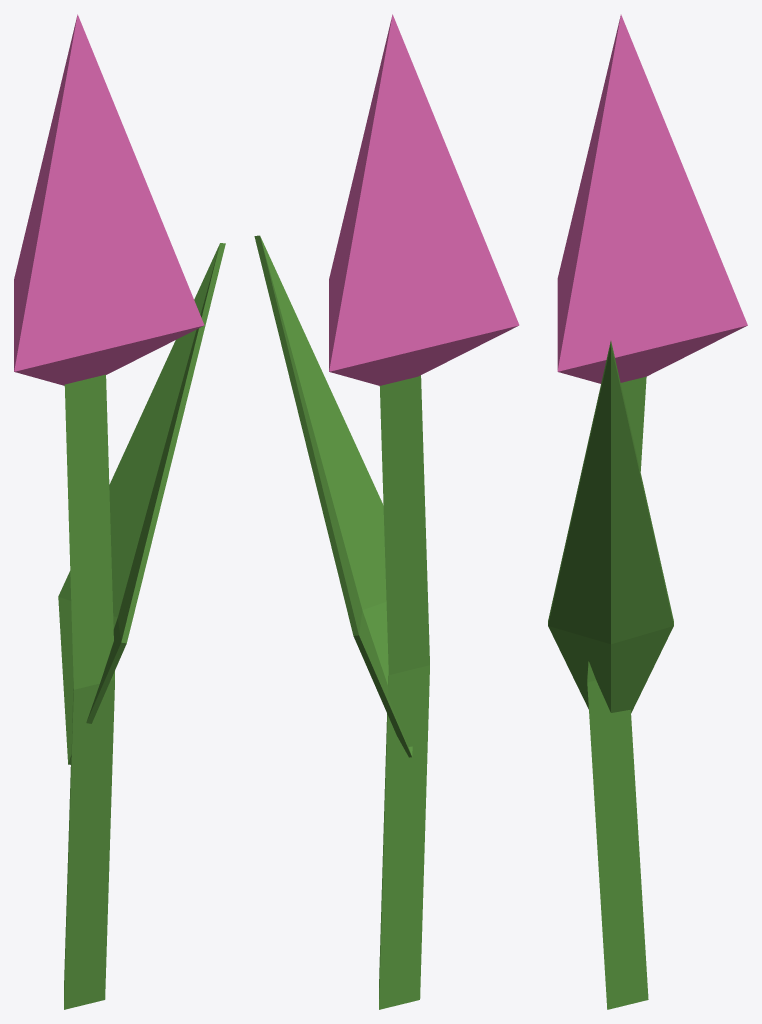
File: tulip.glb
3 renders of one model, left to right at view 1: azimuth 30°, elevation 25°; view 2: azimuth 150°, elevation 25°; view 3: azimuth 270°, elevation 25°, orthographic.
Visible parts, largest first — view 1: Flower_tulip_violet; view 2: Flower_tulip_violet; view 3: Flower_tulip_violet.
Boxes of the visible parts, left/top/right/bottom form: Flower_tulip_violet: left=14, top=14, right=225, bottom=1009; Flower_tulip_violet: left=254, top=14, right=519, bottom=1009; Flower_tulip_violet: left=548, top=14, right=747, bottom=1009.
Bounding box in the file's own units: 0.147 × 0.5809 × 0.1068.
1 material, 1 textured.
